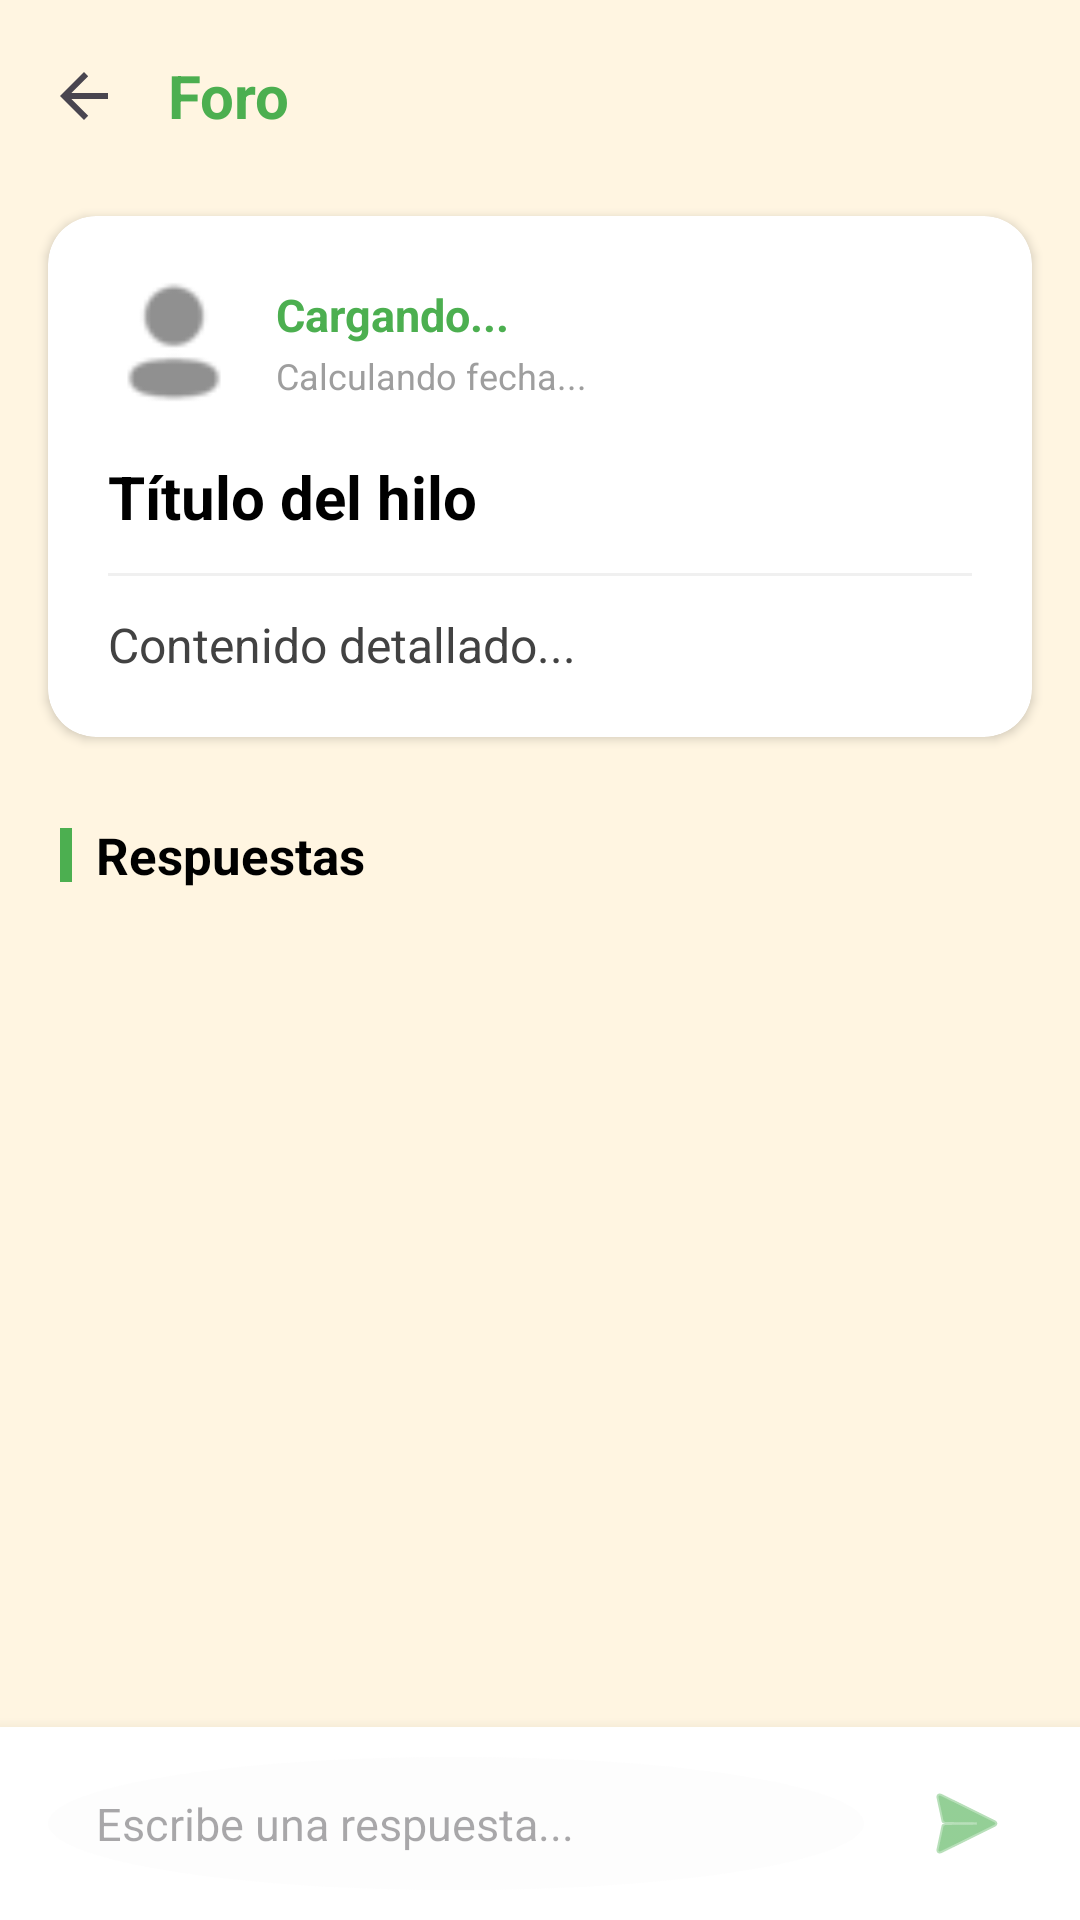

Icons on this 1080×1920 Android screen, each with its box as (x1, y1, x2, y2):
profile: (128, 285, 220, 400)
send: (936, 1793, 997, 1854)
